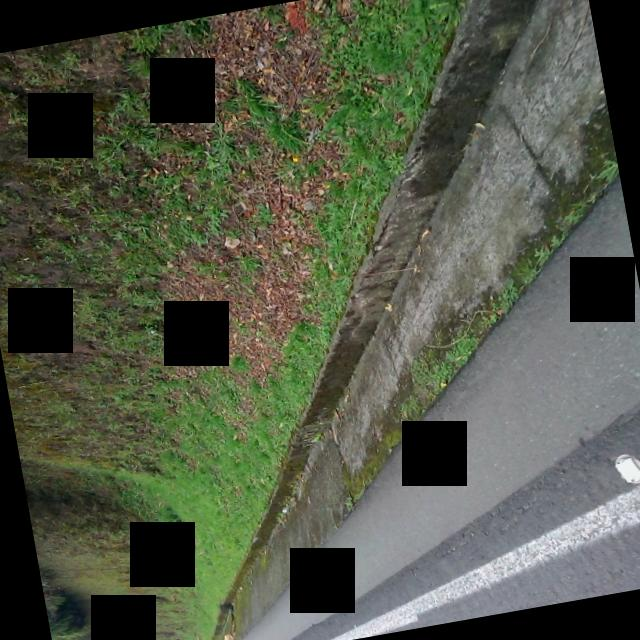DITCH: (89, 0, 640, 640), (212, 298, 640, 594)
